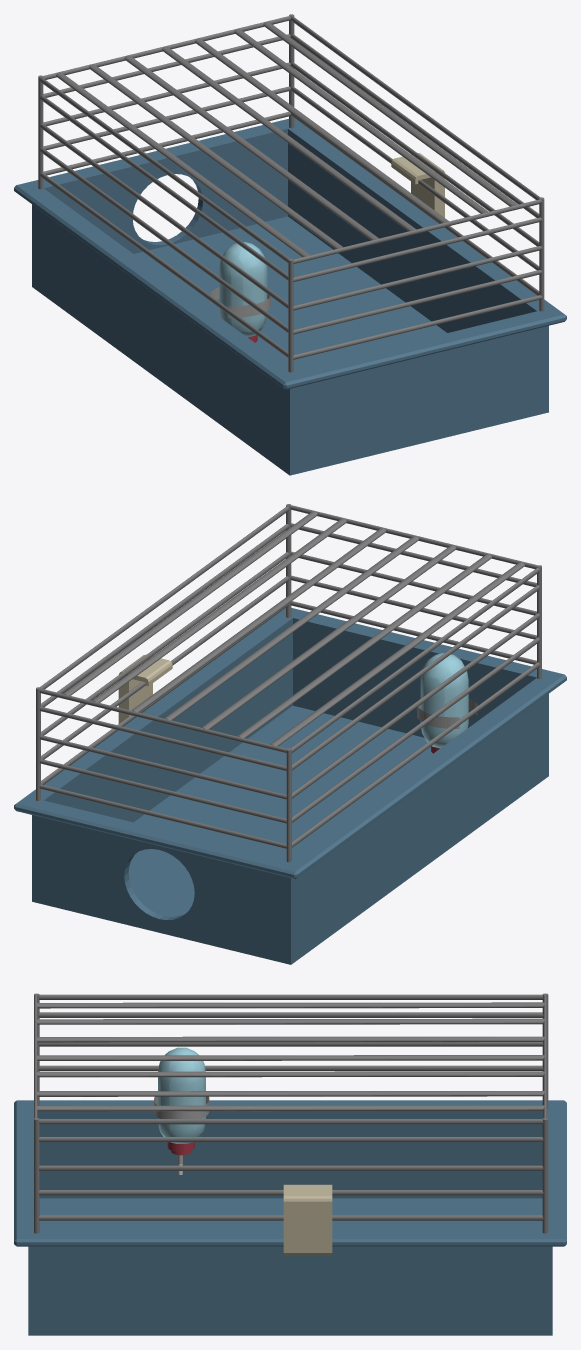
Rendered from Cage.fbx.
The picture shows the model from 3 angles, top to bottom: view 1: azimuth 30°, elevation 25°; view 2: azimuth 150°, elevation 25°; view 3: azimuth 270°, elevation 25°; orthographic projection.
Visible parts, largest first — view 1: CageBottom, CageTop, WaterBottle, CageClip; view 2: CageBottom, CageTop, WaterBottle, CageClip; view 3: CageBottom, CageTop, CageClip, WaterBottle, WaterBottleHolder.
Part boxes in pixels (bbox=[...]): CageBottom: bbox=[14, 118, 566, 475]; CageTop: bbox=[38, 14, 544, 372]; WaterBottle: bbox=[219, 242, 267, 337]; CageClip: bbox=[391, 153, 444, 217]; CageBottom: bbox=[14, 608, 566, 964]; CageTop: bbox=[36, 504, 541, 862]; WaterBottle: bbox=[420, 653, 468, 748]; CageClip: bbox=[118, 654, 172, 723]; CageBottom: bbox=[14, 1100, 566, 1335]; CageTop: bbox=[34, 993, 548, 1233]; CageClip: bbox=[283, 1184, 332, 1255]; WaterBottle: bbox=[158, 1047, 205, 1143]; WaterBottleHolder: bbox=[154, 1096, 209, 1118].
Bounding box in the file's own units: 2645 × 1827 × 4254.
